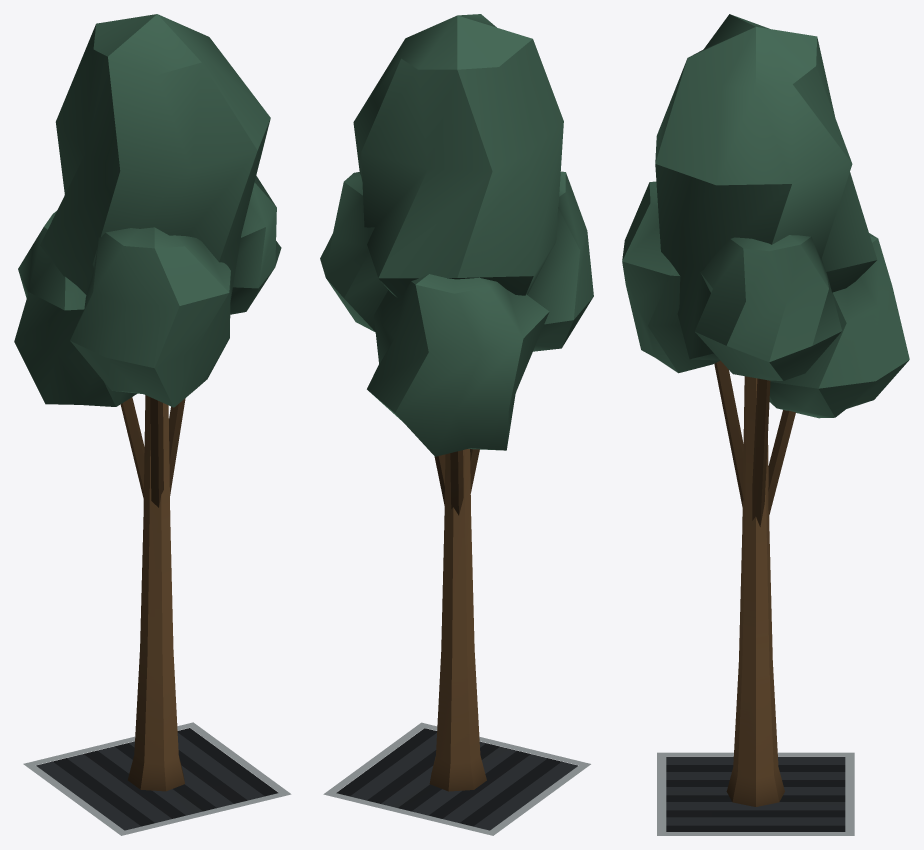
Rendered from tree-column.lod1.glb.
3 views of the same model, side by side, from view 1: azimuth 30°, elevation 25°; view 2: azimuth 150°, elevation 25°; view 3: azimuth 270°, elevation 25° (orthographic).
Visible parts, largest first — view 1: structure; view 2: structure; view 3: structure.
Boxes of the visible parts, x1=… form: structure: x1=14, y1=14, x2=291, y2=835; structure: x1=320, y1=14, x2=593, y2=835; structure: x1=622, y1=14, x2=909, y2=835.
Size of the model in its own units: 2.32 by 7.3 by 2.48.
